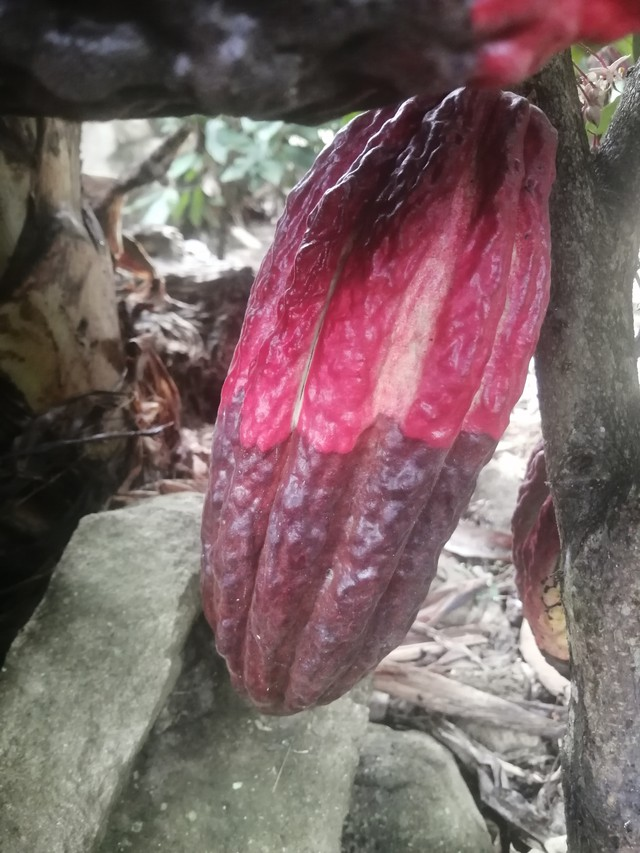phytophthora palmivora: (177, 79, 571, 720)
